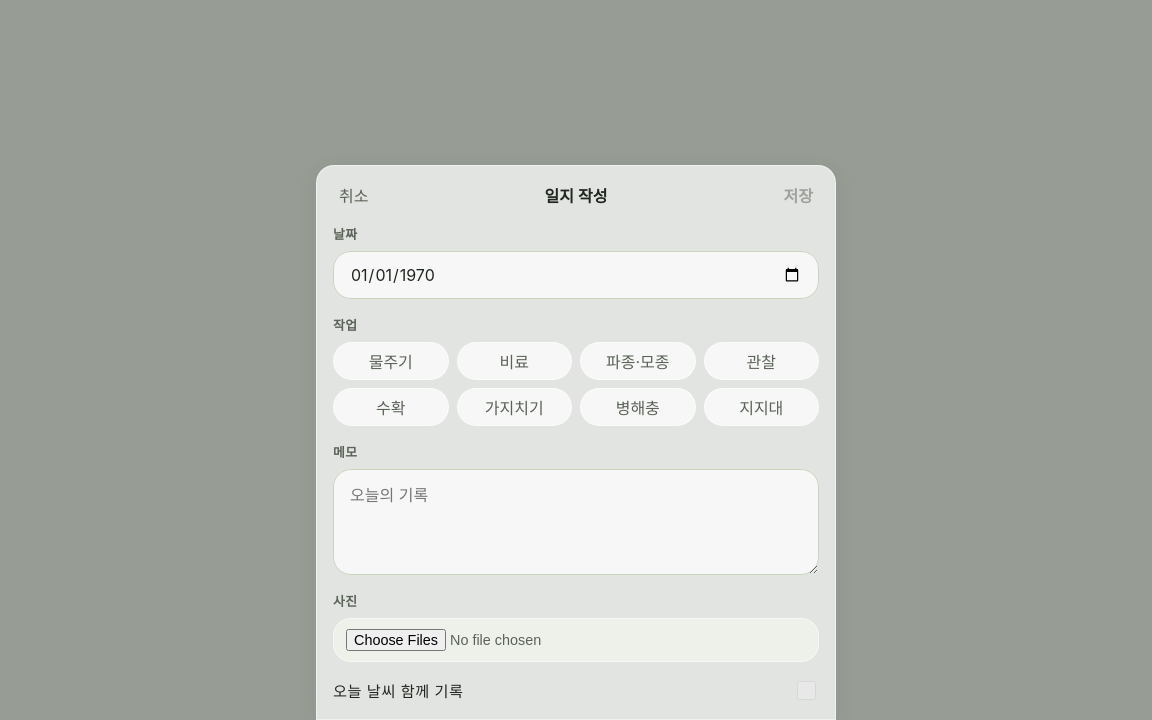
Test: JournalEntrySheet › 빈 입력이면 저장 비활성, 메모를 쓰면 활성
The image size is (1152, 720).
Expected: the button "저장" is disabled, [778, 182, 819, 208]
Type "새 잎이 났다" into the text box labelled "메모" at (576, 522), box [333, 469, 819, 575]
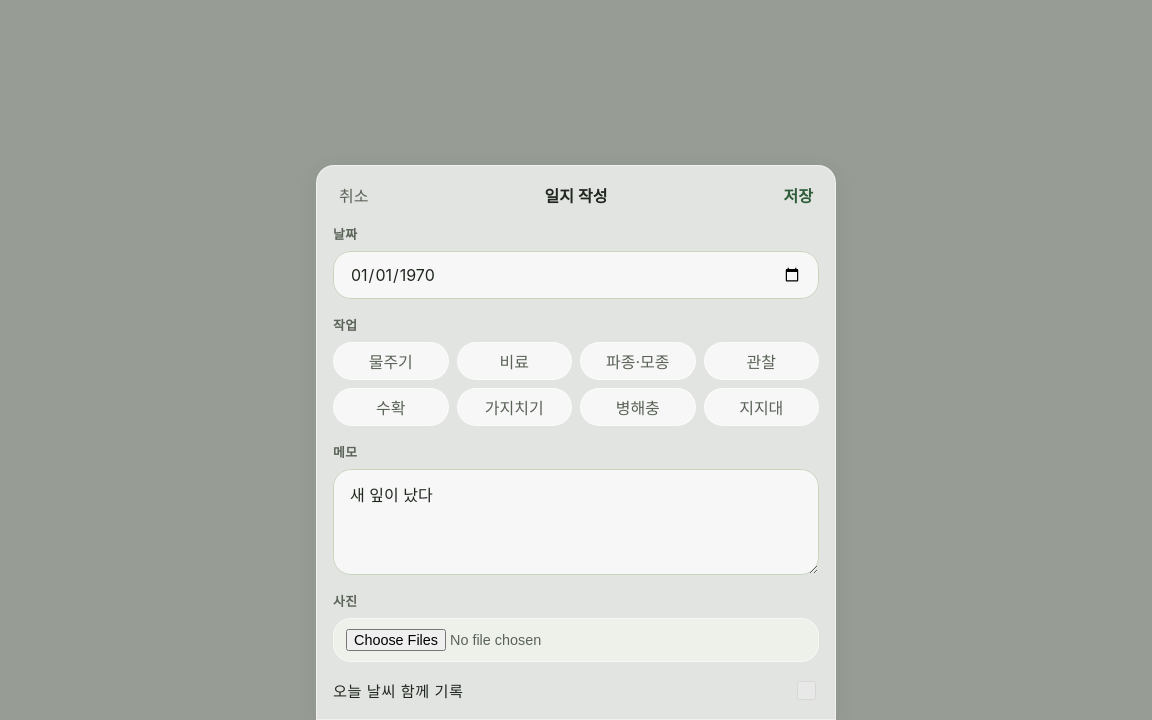
Expected: the button "저장" is enabled, [778, 182, 819, 208]
